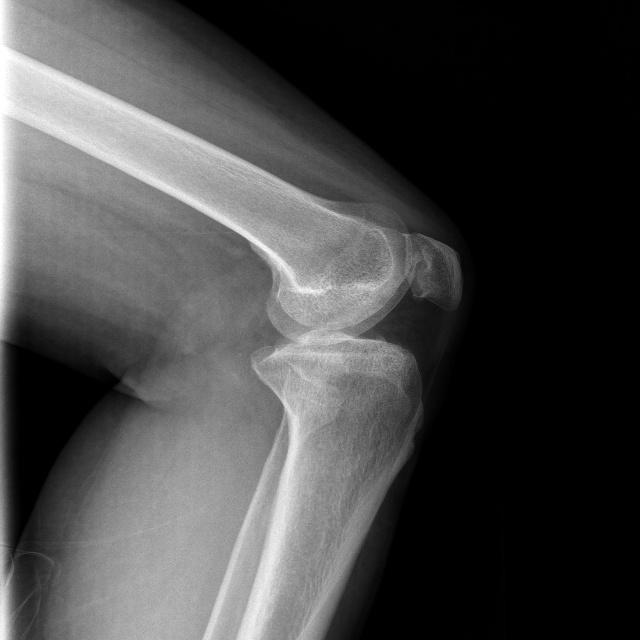Knee: (247, 229, 463, 405)
